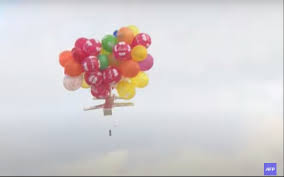Balloon: (118, 59, 139, 78), (117, 78, 135, 100), (113, 41, 131, 61), (75, 38, 95, 56), (82, 55, 100, 72), (91, 84, 111, 99), (85, 70, 103, 86), (64, 61, 83, 76), (131, 44, 146, 60), (64, 76, 81, 90), (101, 36, 118, 50)
